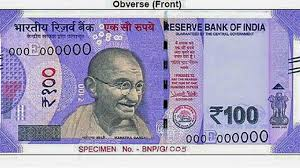hundred: (9, 33, 273, 132)
